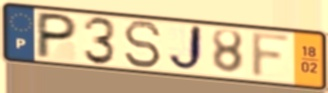3: (82, 15, 117, 67)
8: (210, 28, 246, 77)
F: (249, 30, 294, 81)
J: (166, 23, 205, 75)
P: (33, 10, 80, 60)
S: (122, 19, 164, 70)
